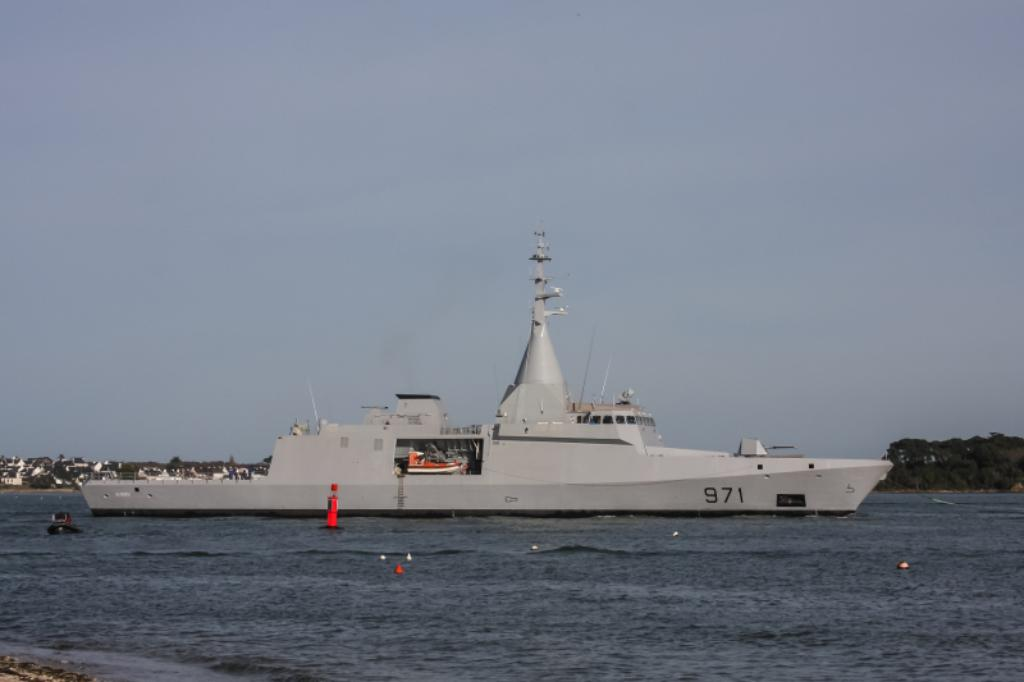Warship: (78, 222, 894, 518)
